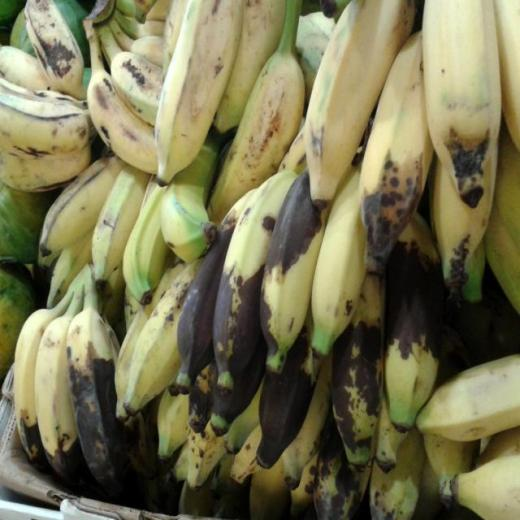Banana: (0, 11, 520, 490)
